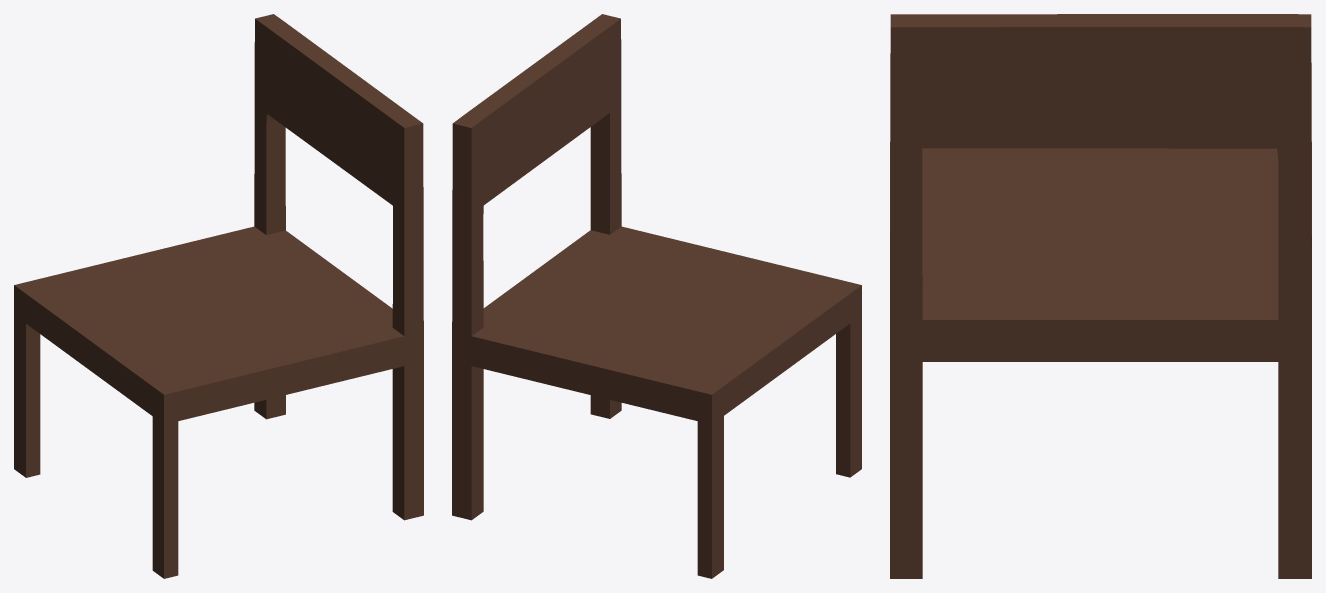
Rendered from ChairFBX.fbx.
3 views of the same model, side by side, from view 1: azimuth 30°, elevation 25°; view 2: azimuth 150°, elevation 25°; view 3: azimuth 270°, elevation 25° (orthographic). The views are drawn at different scales.
Parts seen in each view (by area): view 1: pCube1; view 2: pCube1; view 3: pCube1.
Boxes of the visible parts, left/top/right/bottom form: pCube1: left=14, top=14, right=423, bottom=578; pCube1: left=452, top=14, right=861, bottom=578; pCube1: left=890, top=14, right=1311, bottom=578.
Size of the model in its own units: 6.44 by 9.29 by 6.44.
